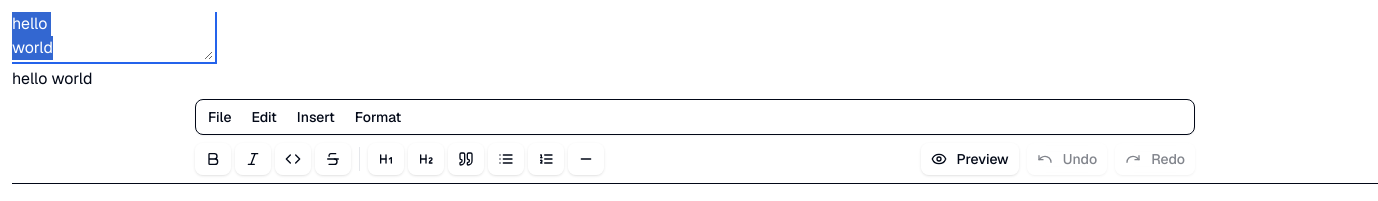
Scenario: EditorToolbar › applies/unapplies bullet list for selected lines
This screenshot has width=1378, height=201.
Click the button named "Bullet list" at x=506, y=159, box [488,143,524,175]
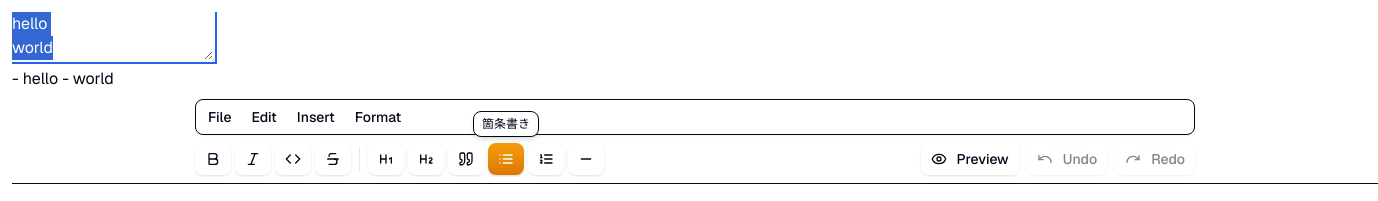
Check: the text with test id "value" reads "- hello - world", box [12,68,114,89]
Click the button named "Bullet list" at x=506, y=159, box [488,143,524,175]
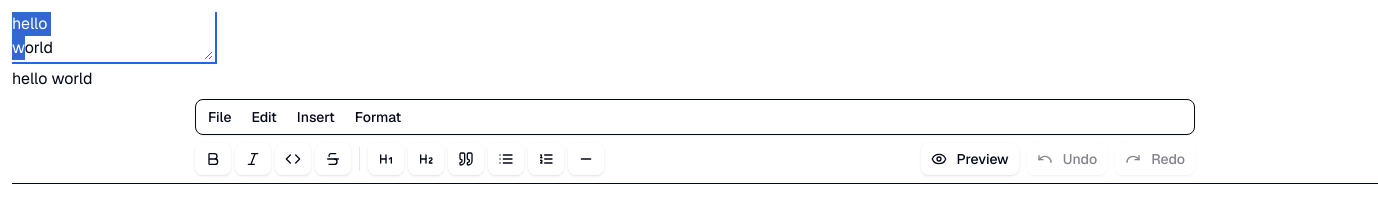
Check: the text with test id "value" reads "hello world", box [12,68,92,89]
